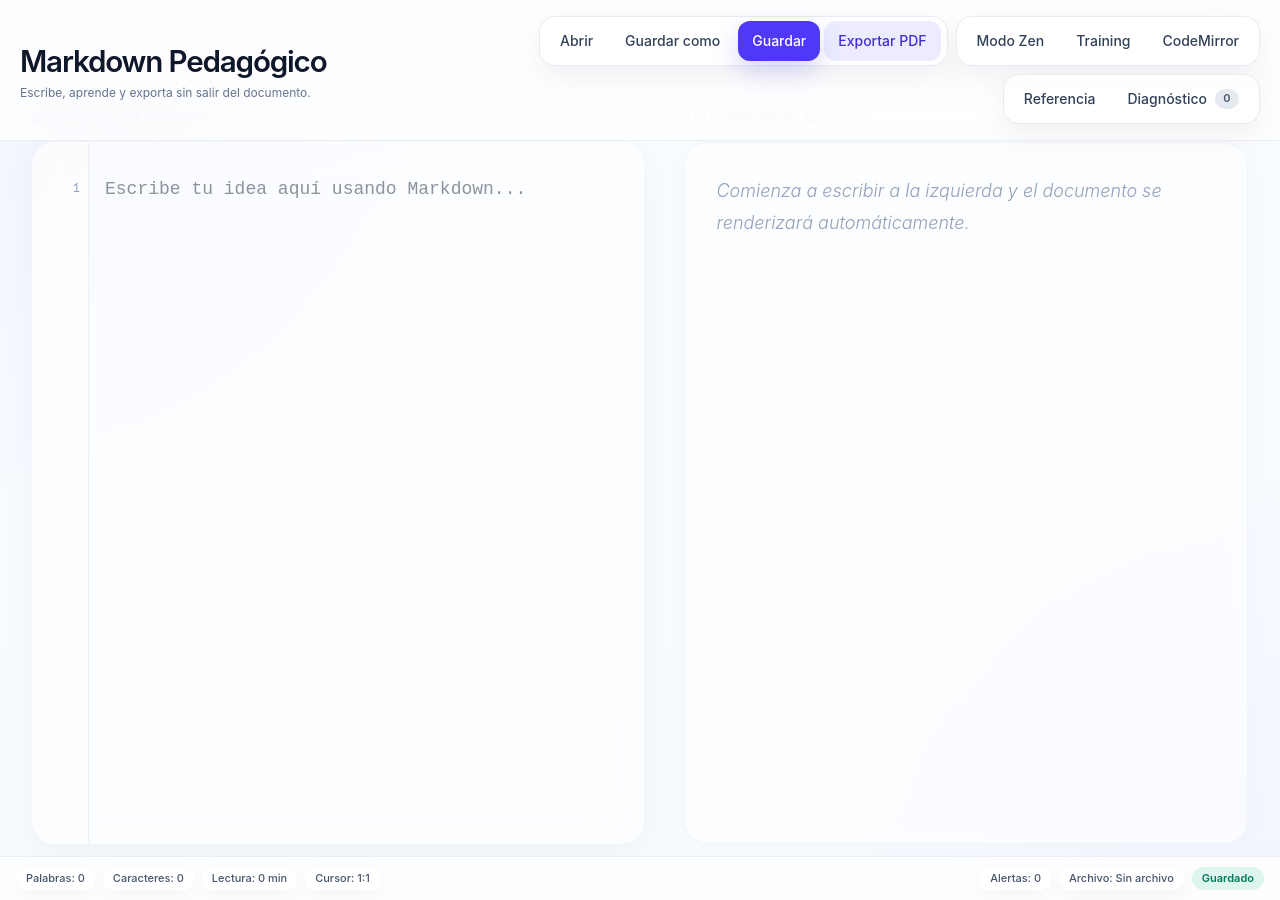
it: Editor integration › exposes labeled landmarks and a single live status region
Click the button with aria-label "Alternar panel de referencia": (1060, 99) [1010,79,1110,119]
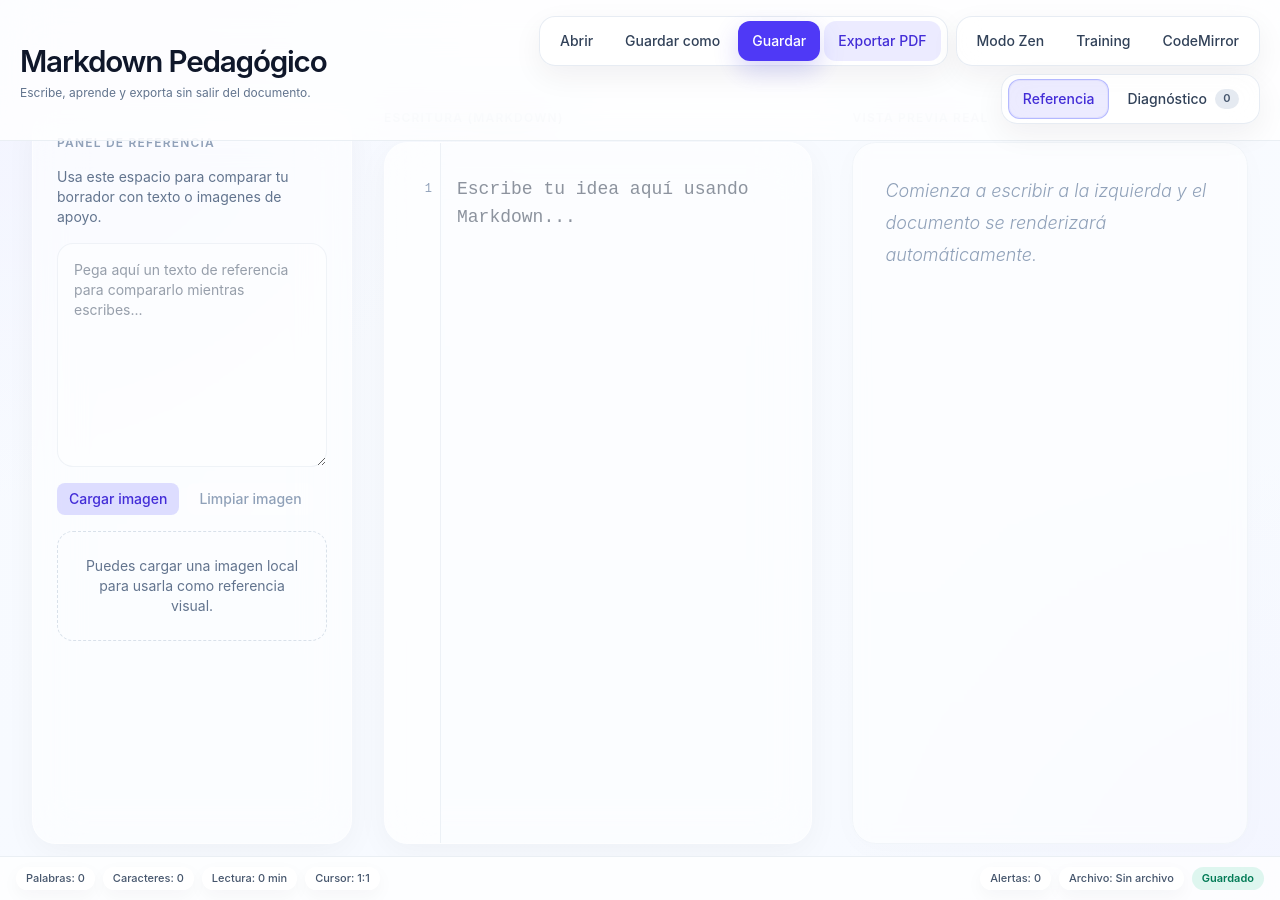
Click the button with aria-label "Alternar panel de diagnóstico": (1183, 99) [1114,79,1253,119]
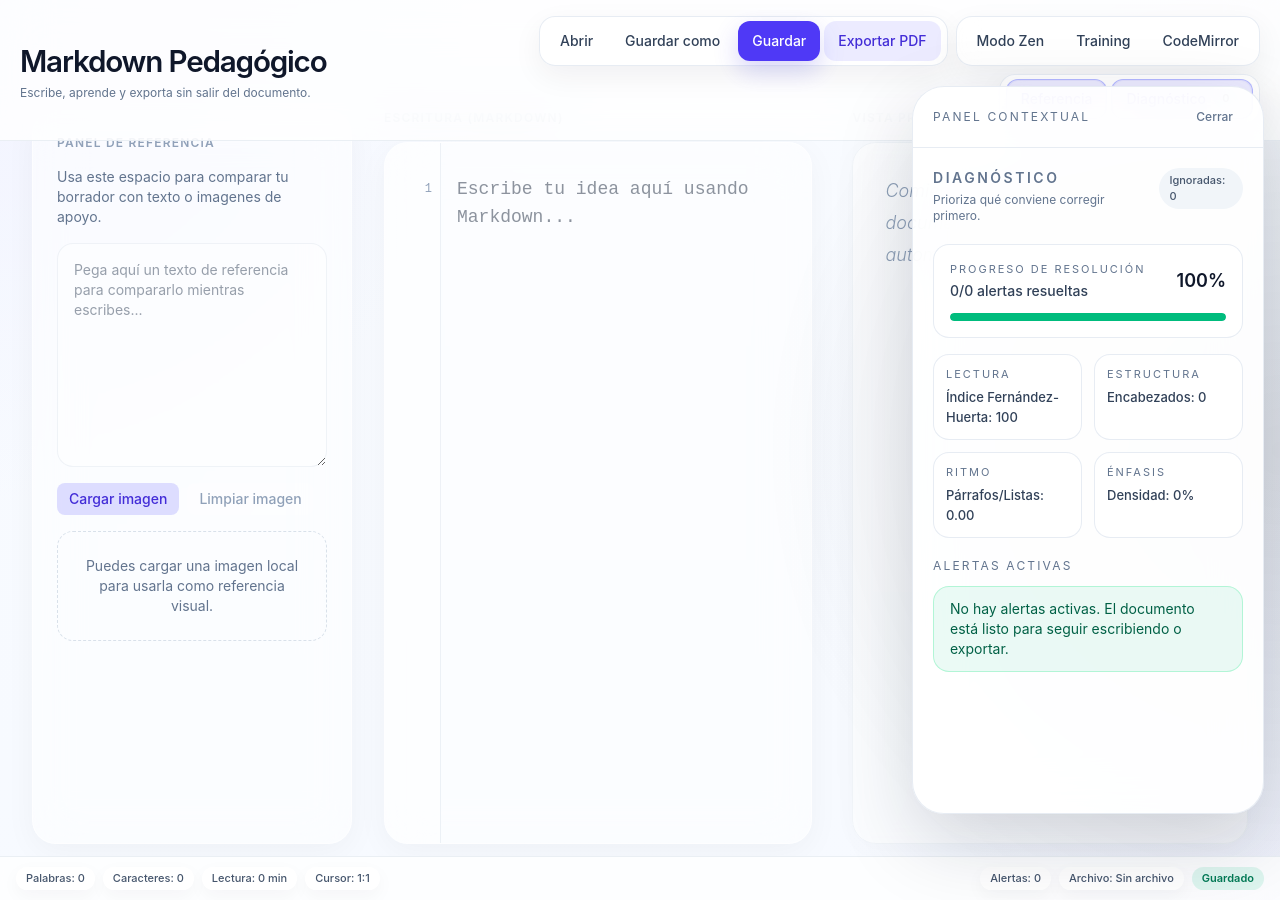
Expected: the element "Vista Previa Real" is shown, [852,110,1248,844]
Result: the element "Panel de Referencia" is shown at [32,110,352,844]
Result: the dialog "Diagnóstico" is shown at [912,86,1264,814]
